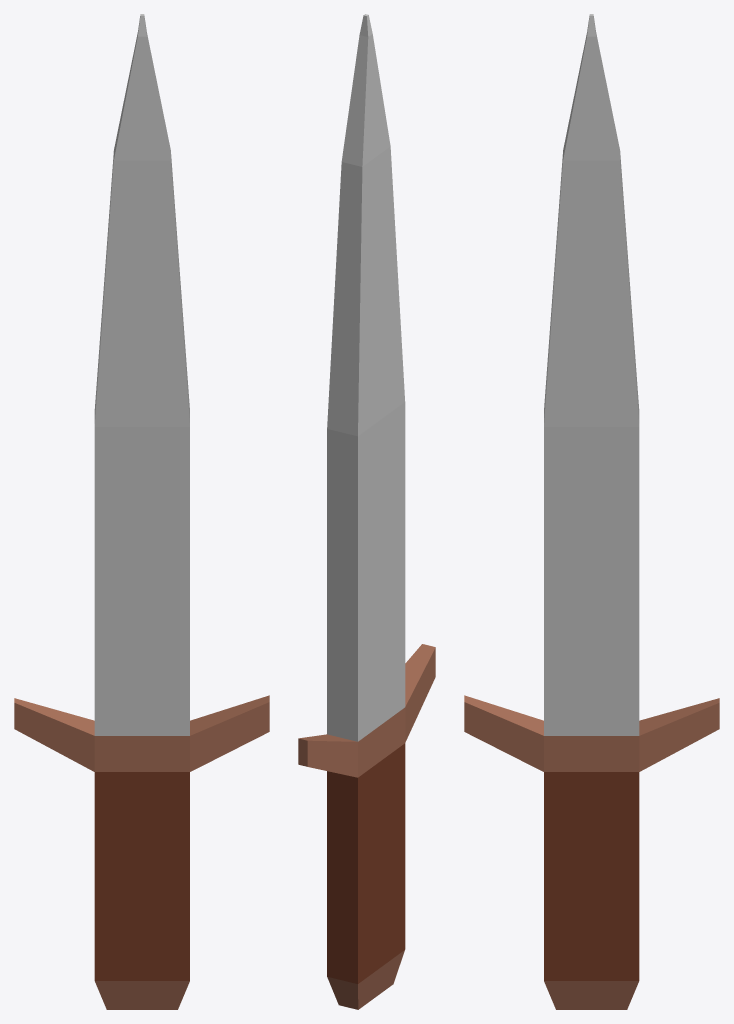
Rendered from SWORD.fbx.
3 renders of one model, left to right at view 1: azimuth 90°, elevation 25°; view 2: azimuth 150°, elevation 25°; view 3: azimuth 270°, elevation 25°, orthographic.
Visible parts, largest first — view 1: Cube; view 2: Cube; view 3: Cube.
Part boxes in pixels (box(x1,y1,x2,y2)): Cube: box(14, 14, 269, 1009); Cube: box(298, 14, 435, 1009); Cube: box(464, 14, 719, 1009).
Size of the model in its own units: 25.33 by 769 by 179.
